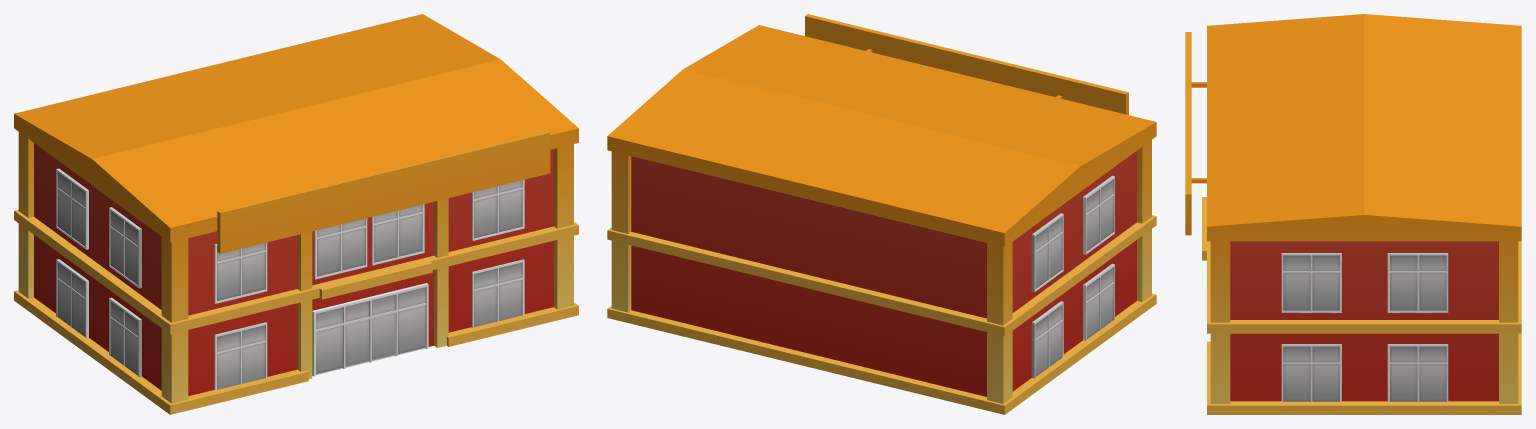
File: BuildingPomBanner.fbx
3 renders of one model, left to right at view 1: azimuth 30°, elevation 25°; view 2: azimuth 150°, elevation 25°; view 3: azimuth 270°, elevation 25°, orthographic. The views are drawn at different scales.
Parts seen in each view (by area): view 1: BuildingPomBody1_LOD0, BuildingPomBody2_LOD0, PlangPomBensin_L0D0; view 2: BuildingPomBody1_LOD0, BuildingPomBody2_LOD0, PlangPomBensin_L0D0; view 3: BuildingPomBody1_LOD0, BuildingPomBody2_LOD0, PlangPomBensin_L0D0.
Boxes of the visible parts, x1=… form: BuildingPomBody1_LOD0: x1=14, y1=14, x2=578, y2=414; BuildingPomBody2_LOD0: x1=56, y1=168, x2=524, y2=390; PlangPomBensin_L0D0: x1=217, y1=130, x2=550, y2=253; BuildingPomBody1_LOD0: x1=607, y1=25, x2=1156, y2=414; BuildingPomBody2_LOD0: x1=1031, y1=175, x2=1114, y2=378; PlangPomBensin_L0D0: x1=805, y1=14, x2=1128, y2=114; BuildingPomBody1_LOD0: x1=1202, y1=14, x2=1521, y2=414; BuildingPomBody2_LOD0: x1=1281, y1=253, x2=1448, y2=401; PlangPomBensin_L0D0: x1=1185, y1=32, x2=1206, y2=235.
Size of what is drawn, in the model's own units: 2101 by 983 by 1486.
